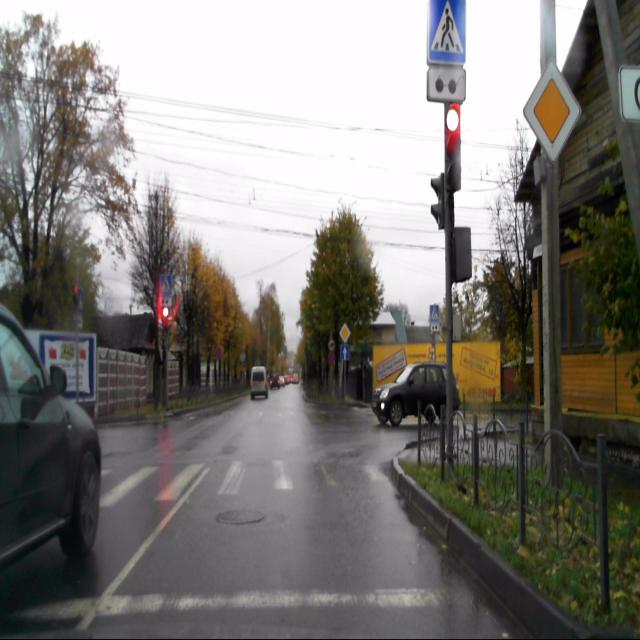road sign: (524, 60, 580, 161), (428, 0, 466, 64), (428, 66, 466, 105), (160, 274, 172, 294)
